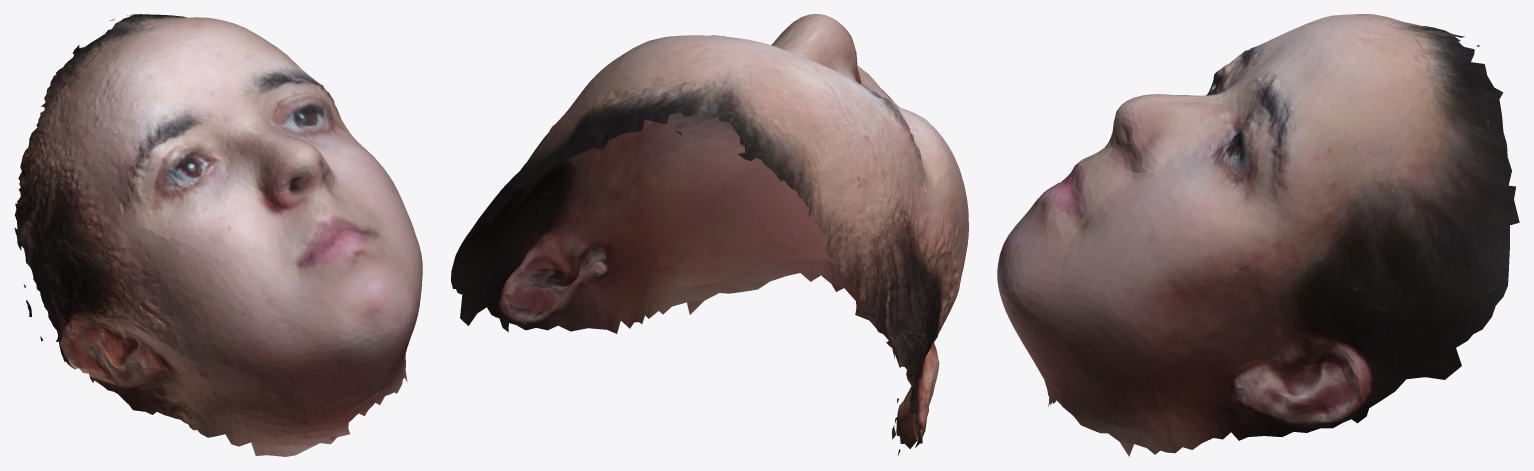
3 views of the same model, side by side, from view 1: azimuth 30°, elevation 25°; view 2: azimuth 150°, elevation 25°; view 3: azimuth 270°, elevation 25° (orthographic). The views are drawn at different scales.
Parts seen in each view (by area): view 1: Mesh_0; view 2: Mesh_0; view 3: Mesh_0.
Boxes of the visible parts, x1,y1,x2,y2 form: Mesh_0: (14,14,422,456); Mesh_0: (451,14,968,455); Mesh_0: (997,14,1519,456).
Bounding box in the file's own units: 37.03 × 36.76 × 45.69.
1 material, 1 textured.
